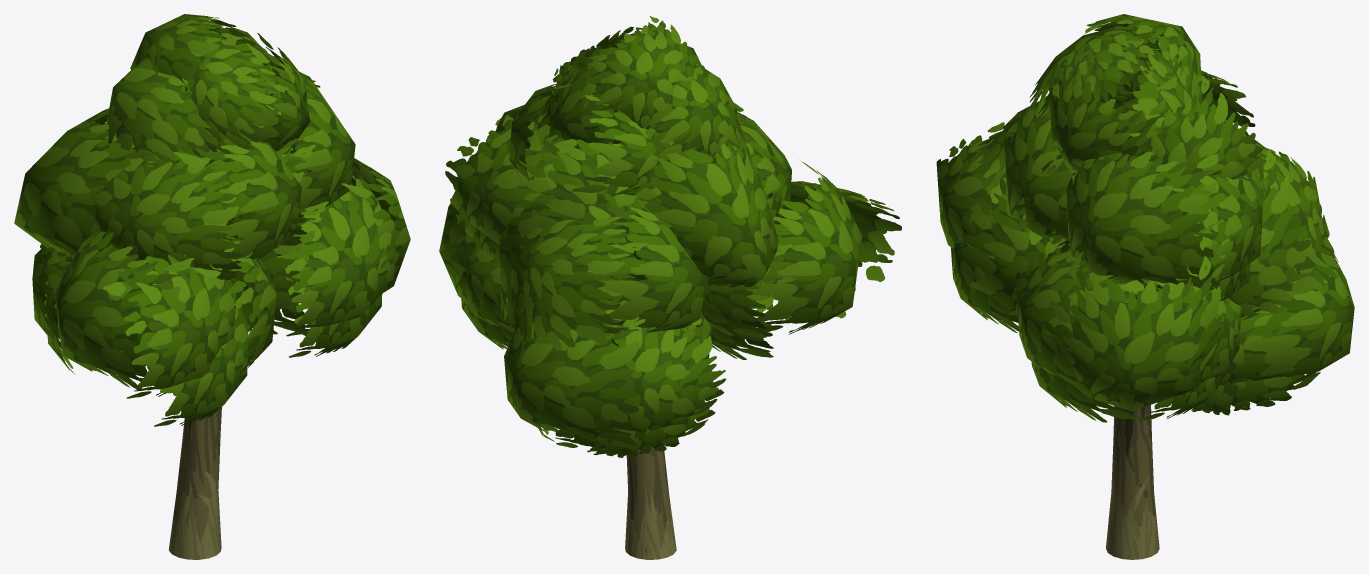
File: tree.glb
3 renders of one model, left to right at view 1: azimuth 30°, elevation 25°; view 2: azimuth 150°, elevation 25°; view 3: azimuth 270°, elevation 25°, orthographic. The views are drawn at different scales.
Parts seen in each view (by area): view 1: Cylinder; view 2: Cylinder; view 3: Cylinder.
Boxes of the visible parts, <box> form: Cylinder: <box>14,14,410,559</box>; Cylinder: <box>439,16,901,559</box>; Cylinder: <box>936,14,1354,559</box>.
Size of the model in its own units: 2.08 by 2.73 by 1.95.
Materials: 2 (2 with a texture image).
